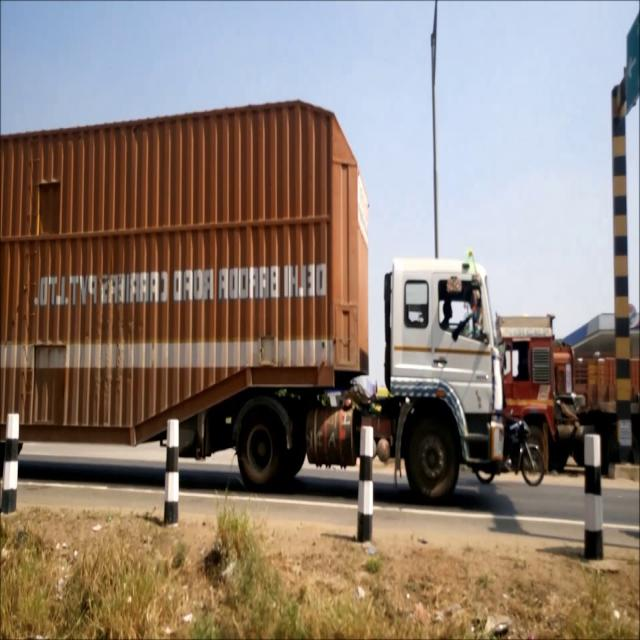truck: (1, 102, 505, 497), (495, 316, 617, 471)
